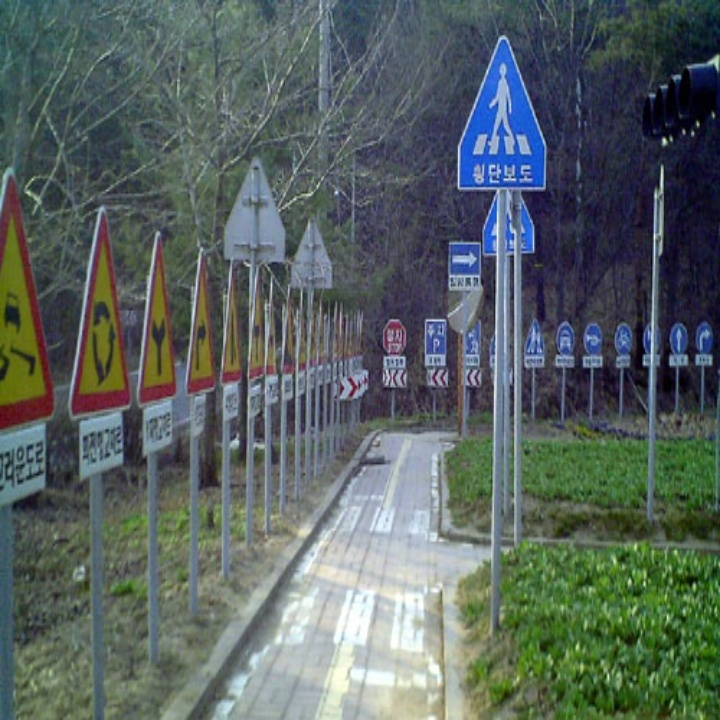cross: (481, 53, 525, 148)
